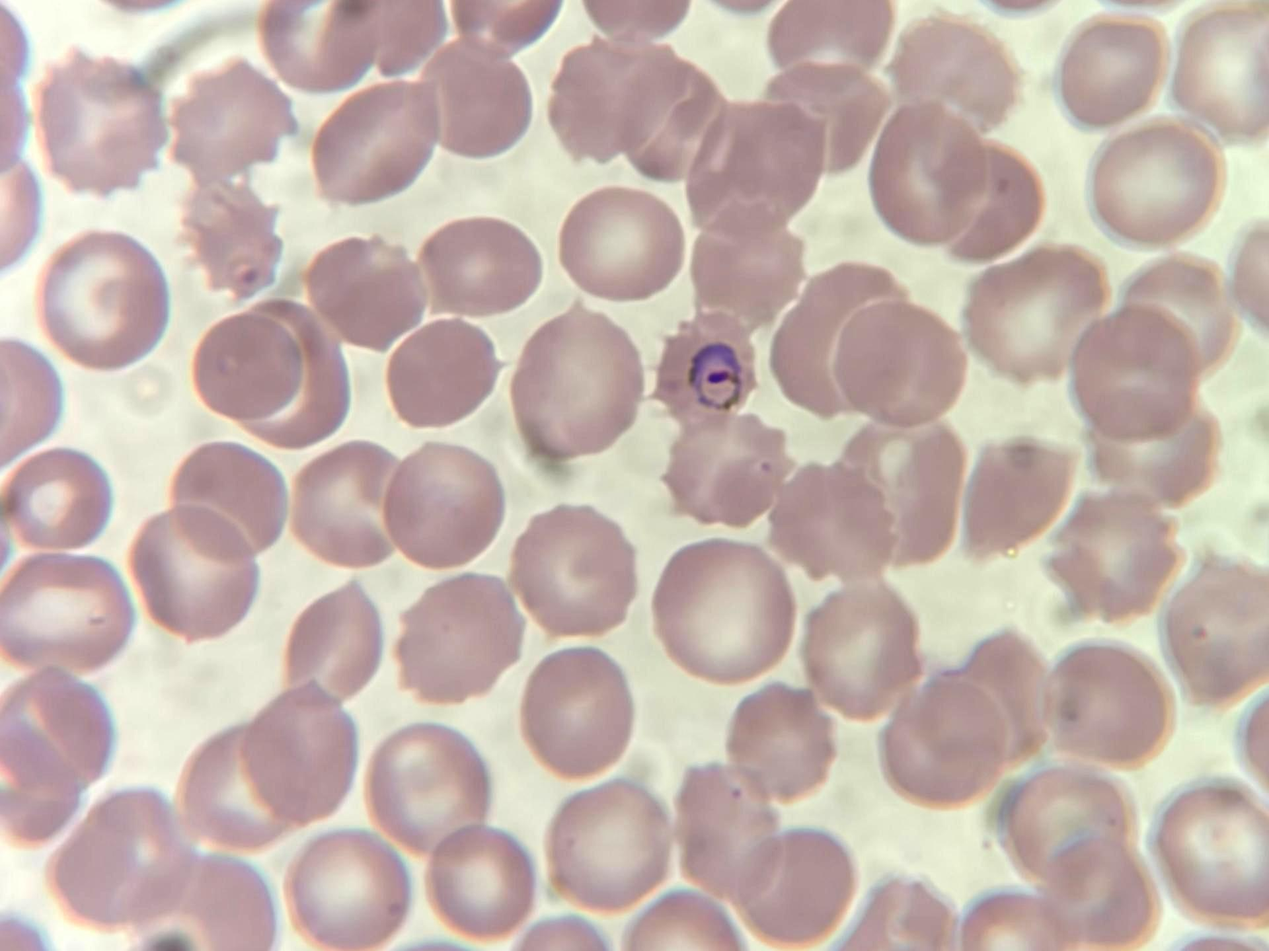Infected: (648, 303, 762, 428)
Uninfected: (652, 538, 793, 681), (958, 241, 1103, 380), (513, 303, 642, 459), (37, 47, 162, 202), (775, 263, 905, 412), (1093, 106, 1221, 255), (44, 794, 189, 925), (1150, 772, 1269, 930), (35, 230, 169, 370), (687, 100, 828, 230), (126, 507, 256, 646), (835, 300, 974, 427), (872, 98, 984, 255), (507, 505, 634, 642), (304, 230, 435, 362), (994, 765, 1135, 887), (1049, 640, 1174, 777), (1049, 490, 1179, 621), (236, 298, 351, 445), (0, 551, 134, 677), (846, 417, 961, 561), (1159, 547, 1269, 697), (542, 785, 679, 905), (1040, 829, 1174, 951), (679, 759, 786, 910), (1075, 303, 1194, 437), (762, 54, 887, 180), (1121, 247, 1234, 386), (401, 569, 518, 703), (800, 587, 916, 721), (764, 463, 890, 586), (313, 78, 436, 204), (881, 673, 1003, 800), (289, 820, 407, 951), (555, 32, 677, 158), (242, 684, 353, 822), (370, 723, 488, 852), (963, 433, 1074, 570), (524, 644, 632, 784), (731, 831, 856, 951), (1093, 388, 1222, 503), (690, 197, 798, 334), (661, 406, 784, 525), (416, 32, 529, 161), (386, 441, 498, 571), (564, 186, 687, 304), (947, 626, 1044, 774), (0, 670, 107, 802), (172, 437, 288, 558), (1060, 10, 1171, 133), (892, 10, 1016, 120), (183, 732, 300, 847), (731, 679, 834, 809), (383, 318, 501, 431), (167, 58, 288, 168), (425, 822, 536, 940), (934, 137, 1035, 261), (286, 573, 385, 699), (293, 437, 391, 564), (419, 219, 548, 314), (628, 54, 727, 171), (194, 314, 300, 420), (0, 450, 106, 552)
